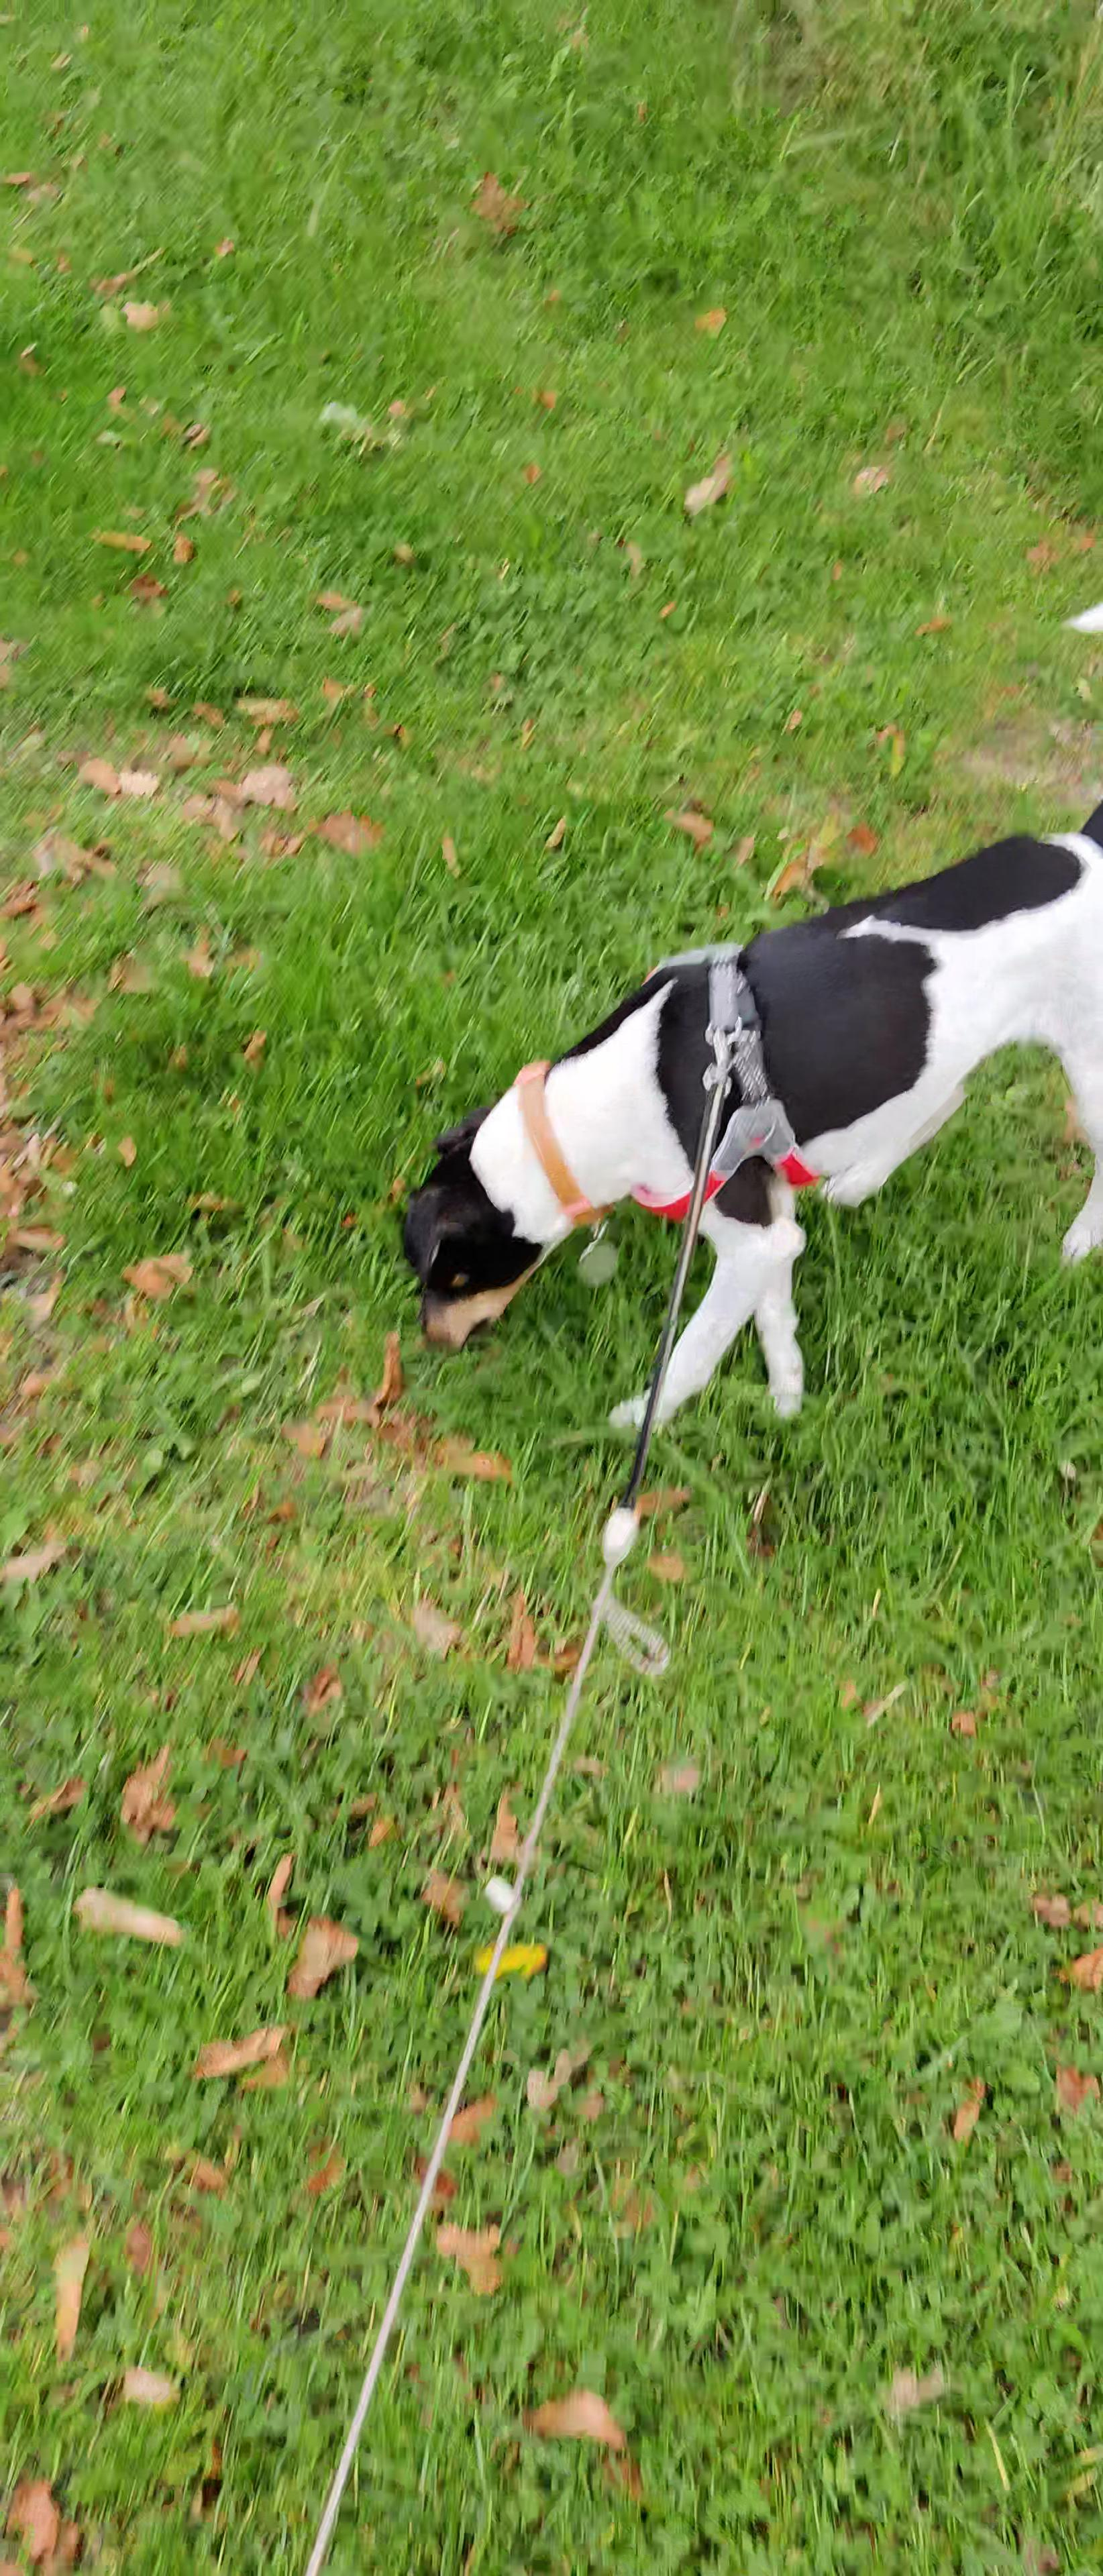Dog: (375, 585, 1103, 1442)
